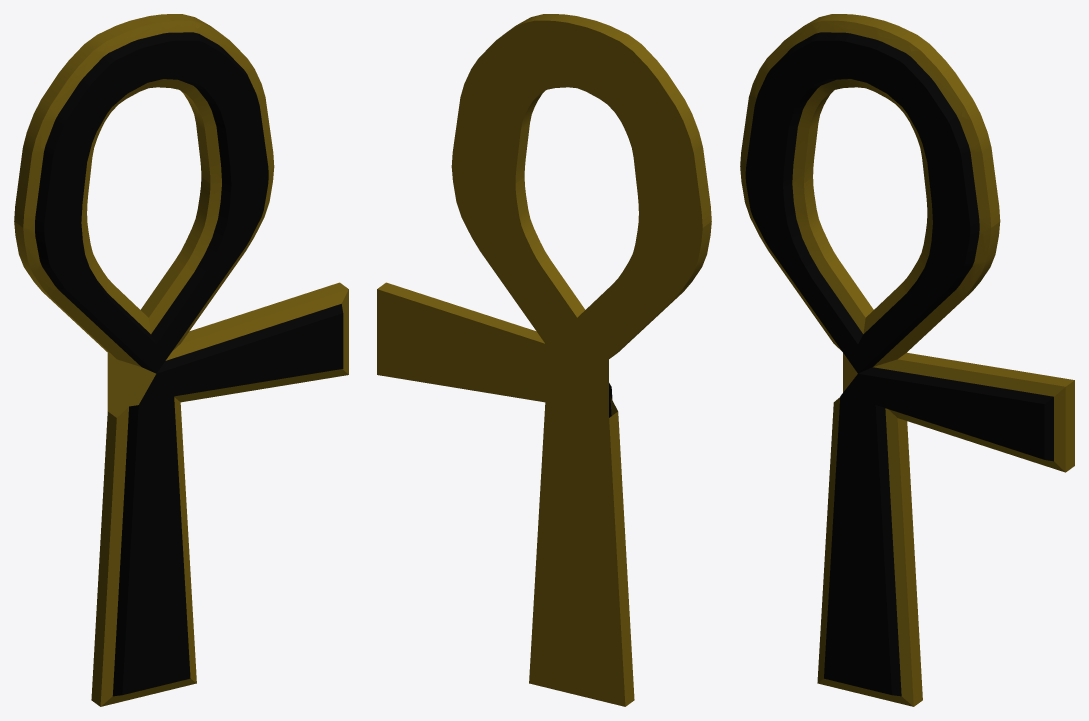
Rendered from Cuerpo Roto Brazo Ahnk.fbx.
The picture shows the model from 3 angles, left to right: view 1: azimuth 30°, elevation 25°; view 2: azimuth 150°, elevation 25°; view 3: azimuth 330°, elevation 25°; orthographic projection.
Parts seen in each view (by area): view 1: pCube4; view 2: pCube4; view 3: pCube4.
Boxes of the visible parts, x1,y1,x2,y2 form: pCube4: (14,14,348,706); pCube4: (377,14,711,706); pCube4: (740,14,1074,706).
Bounding box in the file's own units: 2.69 × 5.3 × 0.2404.
